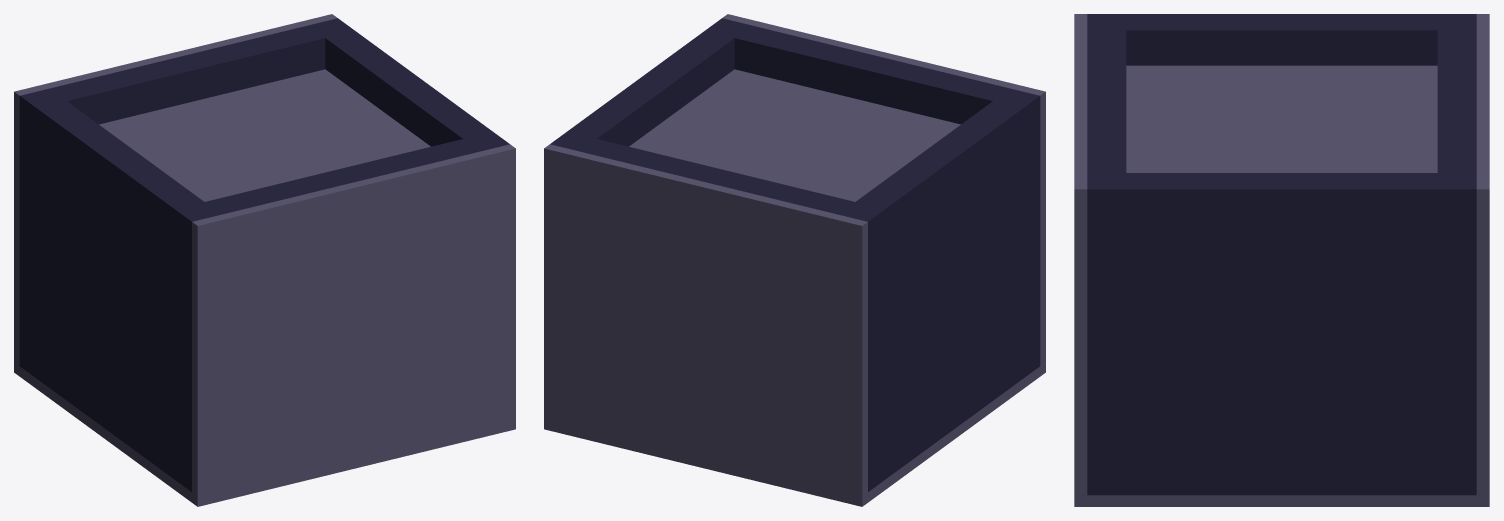
The model's file is PressDownerPart.dae.
The picture shows the model from 3 angles, left to right: view 1: azimuth 30°, elevation 25°; view 2: azimuth 150°, elevation 25°; view 3: azimuth 270°, elevation 25°; orthographic projection. The views are drawn at different scales.
Visible parts, largest first — view 1: ObjObject; view 2: ObjObject; view 3: ObjObject.
Part boxes in pixels (x1,y1,x2,y2): ObjObject: [14, 14, 515, 506]; ObjObject: [544, 14, 1045, 506]; ObjObject: [1074, 14, 1489, 506].
Bounding box in the file's own units: 3.2 × 3.2 × 2.7.
1 material, 1 textured.
